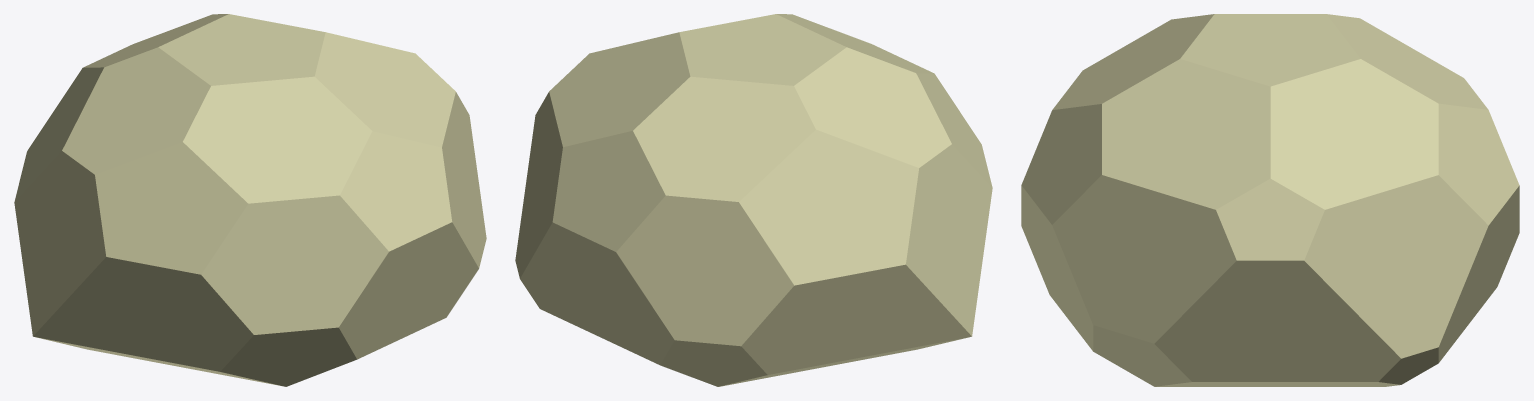
File: roca4.glb
3 renders of one model, left to right at view 1: azimuth 30°, elevation 25°; view 2: azimuth 150°, elevation 25°; view 3: azimuth 270°, elevation 25°, orthographic. The views are drawn at different scales.
Visible parts, largest first — view 1: Icosphere; view 2: Icosphere; view 3: Icosphere.
Boxes of the visible parts, x1=… form: Icosphere: x1=14, y1=14, x2=486, y2=386; Icosphere: x1=515, y1=14, x2=992, y2=386; Icosphere: x1=1021, y1=14, x2=1519, y2=386.
Size of the model in its own units: 1.75 by 1.03 by 1.7.
